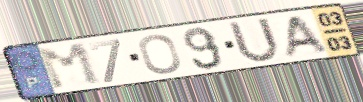7: (87, 37, 123, 84)
9: (182, 26, 225, 72)
A: (281, 13, 330, 60)
M: (34, 41, 105, 92)
O: (137, 33, 184, 76)
U: (226, 16, 282, 65)
